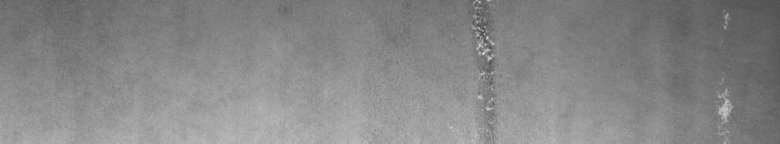hc: (461, 4, 504, 136)
